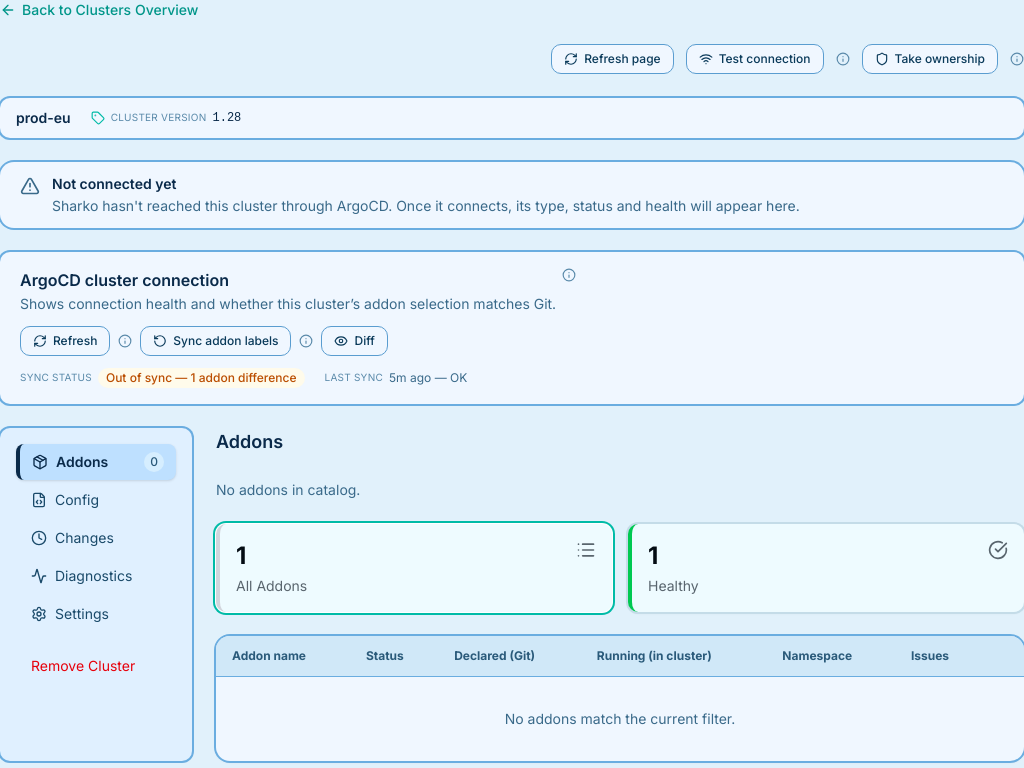
Test: ClusterDetail — Re-sync now (v4-8-5) › clicking "Sync addon labels" opens a confirm dialog naming exactly what it does
What coordinates should you click on to do the following:
click the button "Sync addon labels"
I would click on:
 (216, 341)
Its box is [140,326,292,356].
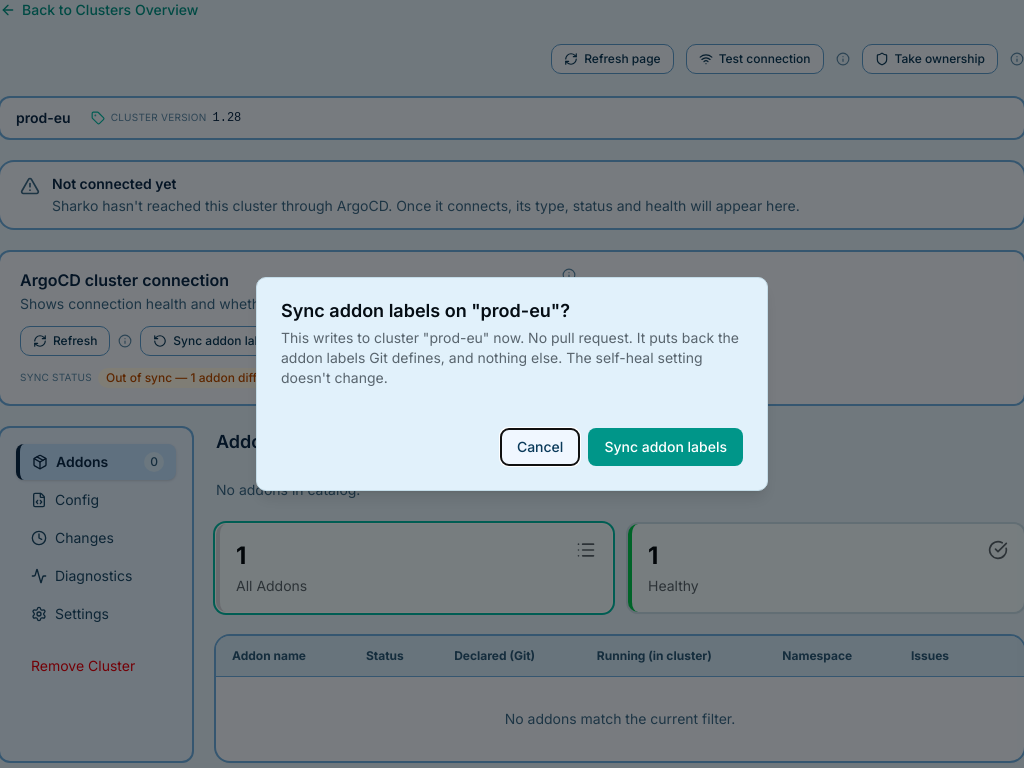
Check: the text "This writes to cluster \"prod-eu\" now. No pull request. It puts back the addon labels Git defines, and nothing else. The " shows "This writes to cluster \"prod-eu\" now. No pull request. It puts back the addon labels Git defines, and nothing else. The self-heal setting doesn't change.", box [281,329,739,386]
